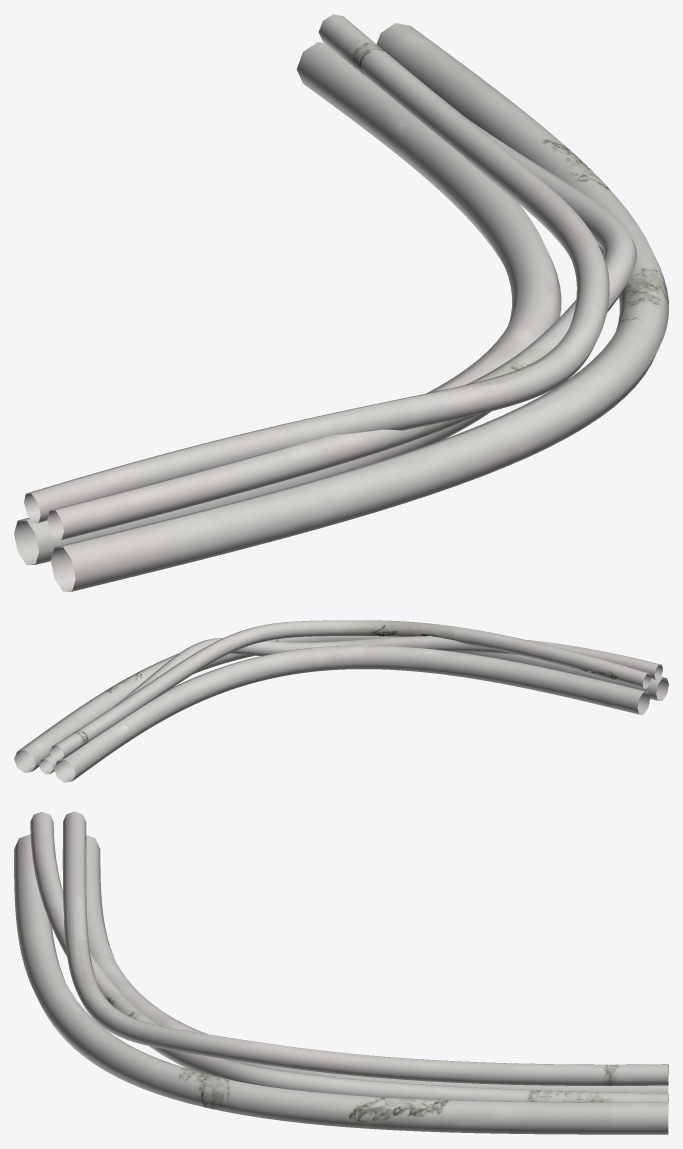
The model's file is WireTurnLeft.fbx.
3 views of the same model, one above another, from view 1: azimuth 30°, elevation 25°; view 2: azimuth 150°, elevation 25°; view 3: azimuth 270°, elevation 25° (orthographic). The views are drawn at different scales.
Parts seen in each view (by area): view 1: TurnLeft; view 2: TurnLeft; view 3: TurnLeft.
Part boxes in pixels (x1,y1,x2,y2): TurnLeft: (14, 14, 668, 591); TurnLeft: (14, 620, 668, 782); TurnLeft: (14, 811, 668, 1134).
Size of the model in its own units: 200 by 19.53 by 200.
Materials: 1 (1 with a texture image).
